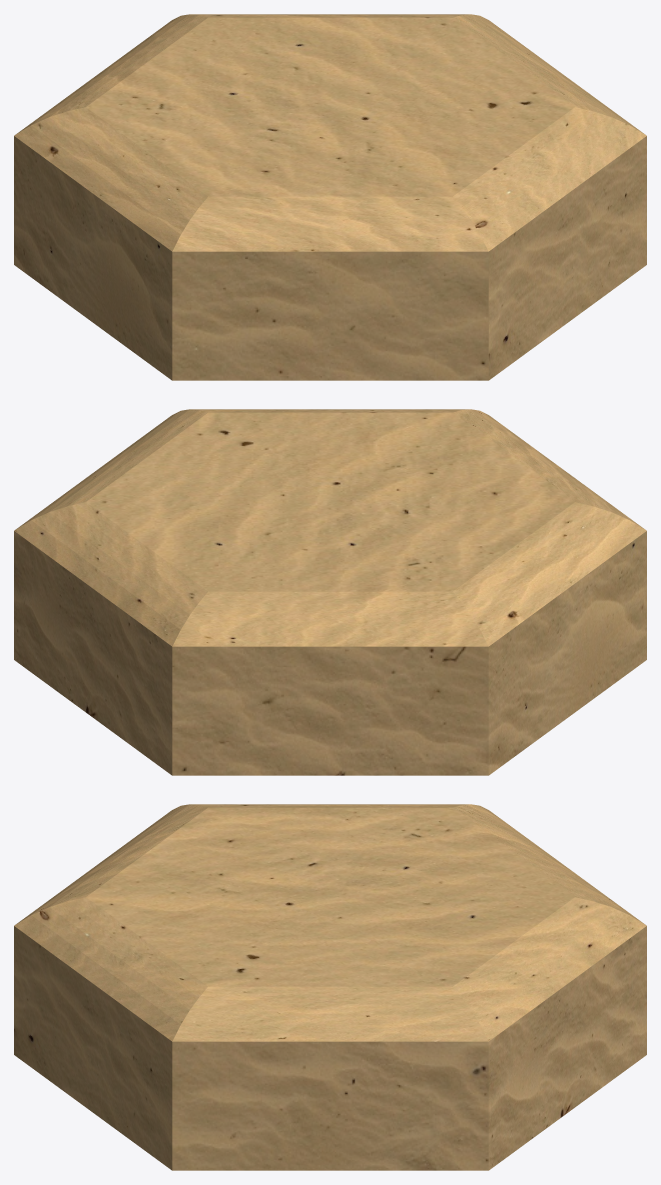
File: DAEsand.dae
3 renders of one model, top to bottom at view 1: azimuth 30°, elevation 25°; view 2: azimuth 150°, elevation 25°; view 3: azimuth 270°, elevation 25°, orthographic.
Parts seen in each view (by area): view 1: PolyLowRes; view 2: PolyLowRes; view 3: PolyLowRes.
Part boxes in pixels (<box>): PolyLowRes: <box>14,14,646,380</box>; PolyLowRes: <box>14,409,646,775</box>; PolyLowRes: <box>14,804,646,1170</box>.
Bounding box in the file's own units: 1.73 × 2 × 0.55.
Materials: 1 (1 with a texture image).
